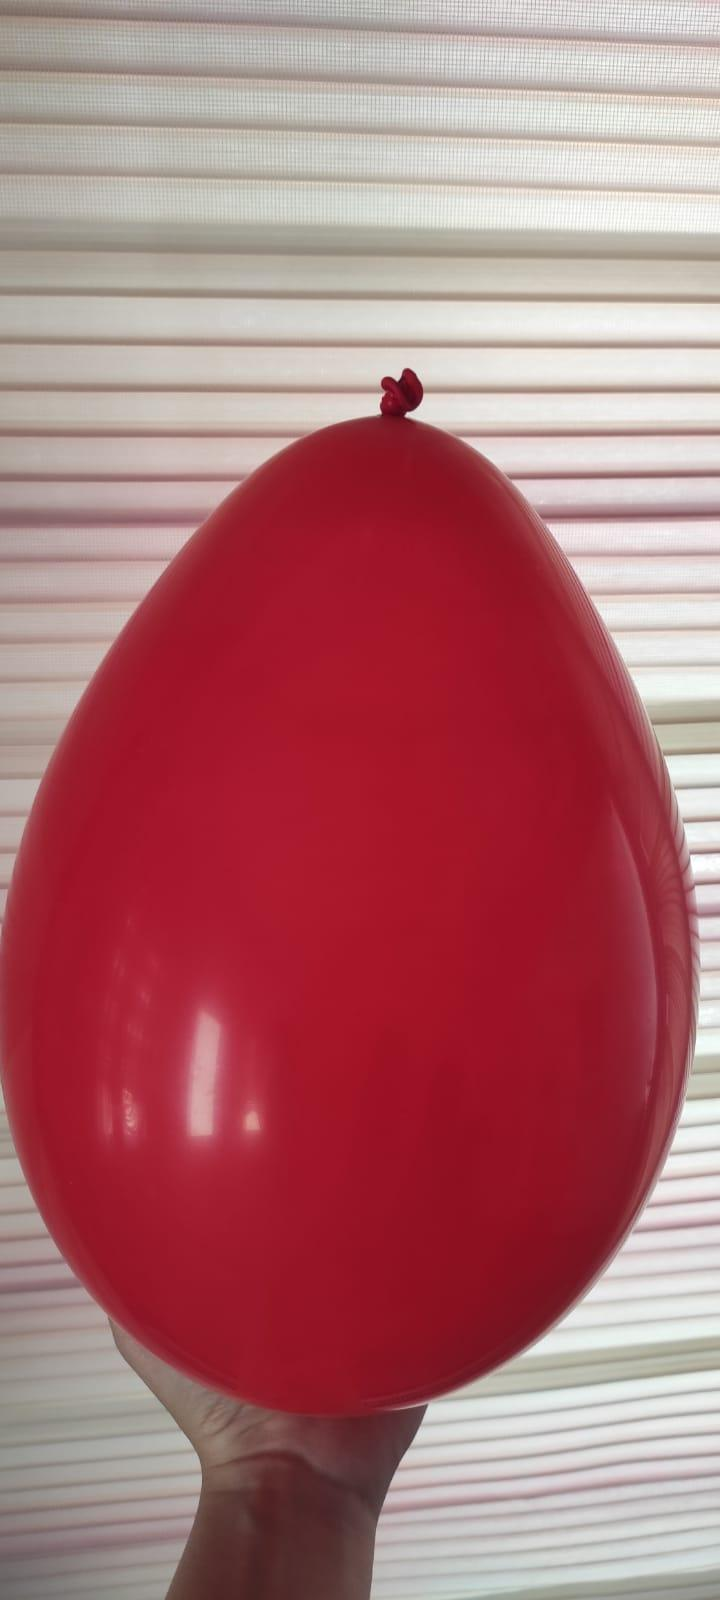red: (0, 354, 720, 1422)
